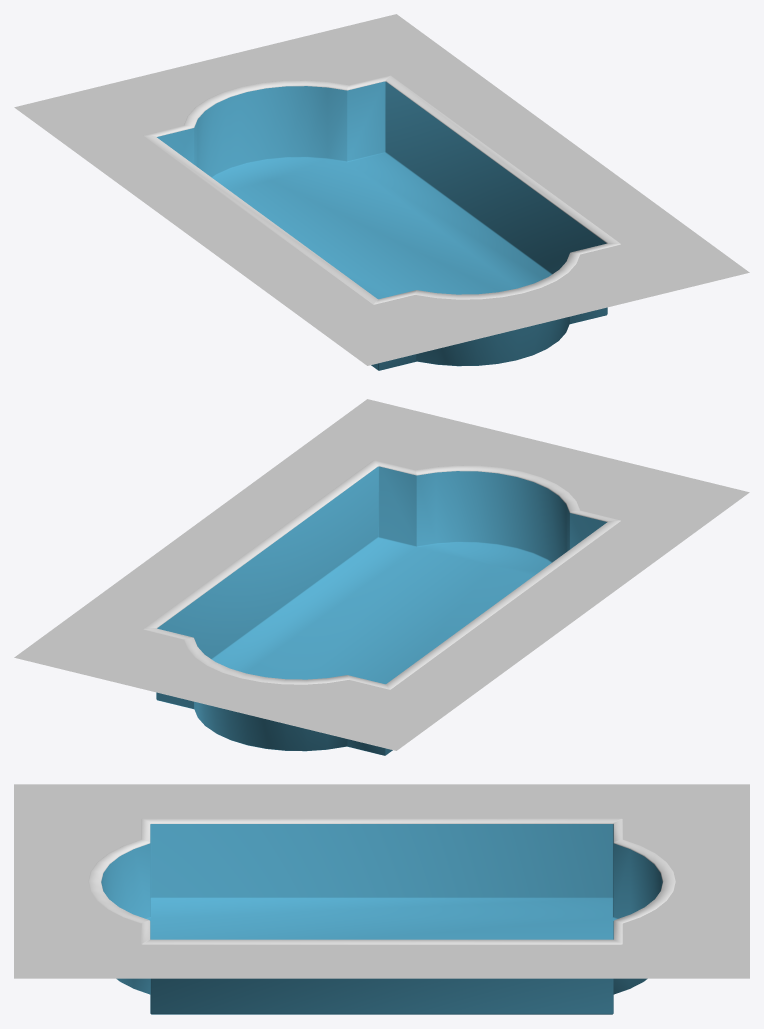
Rendered from Pool_1.8m.fbx.
3 renders of one model, top to bottom at view 1: azimuth 30°, elevation 25°; view 2: azimuth 150°, elevation 25°; view 3: azimuth 270°, elevation 25°, orthographic. The views are drawn at different scales.
Visible parts, largest first — view 1: PoolRim, Pool12x6x1.8m; view 2: PoolRim, Pool12x6x1.8m; view 3: Pool12x6x1.8m, PoolRim.
Boxes of the visible parts, <box> form: PoolRim: <box>14,14,749,365</box>; Pool12x6x1.8m: <box>143,75,620,370</box>; PoolRim: <box>14,399,749,750</box>; Pool12x6x1.8m: <box>143,460,620,755</box>; Pool12x6x1.8m: <box>88,818,675,1014</box>; PoolRim: <box>14,784,749,978</box>.
Size of the model in its own units: 10 by 1.81 by 16.
